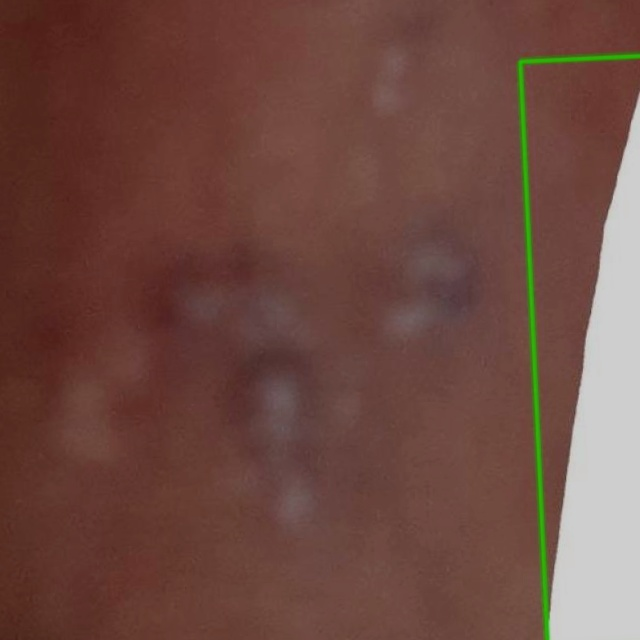Contact Dermatitis: (519, 54, 639, 639)
